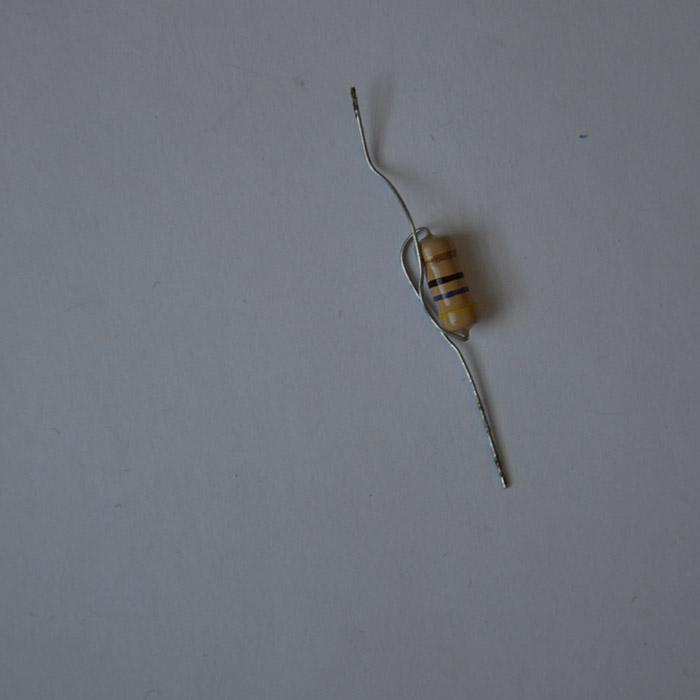resistor: (418, 229, 479, 333)
